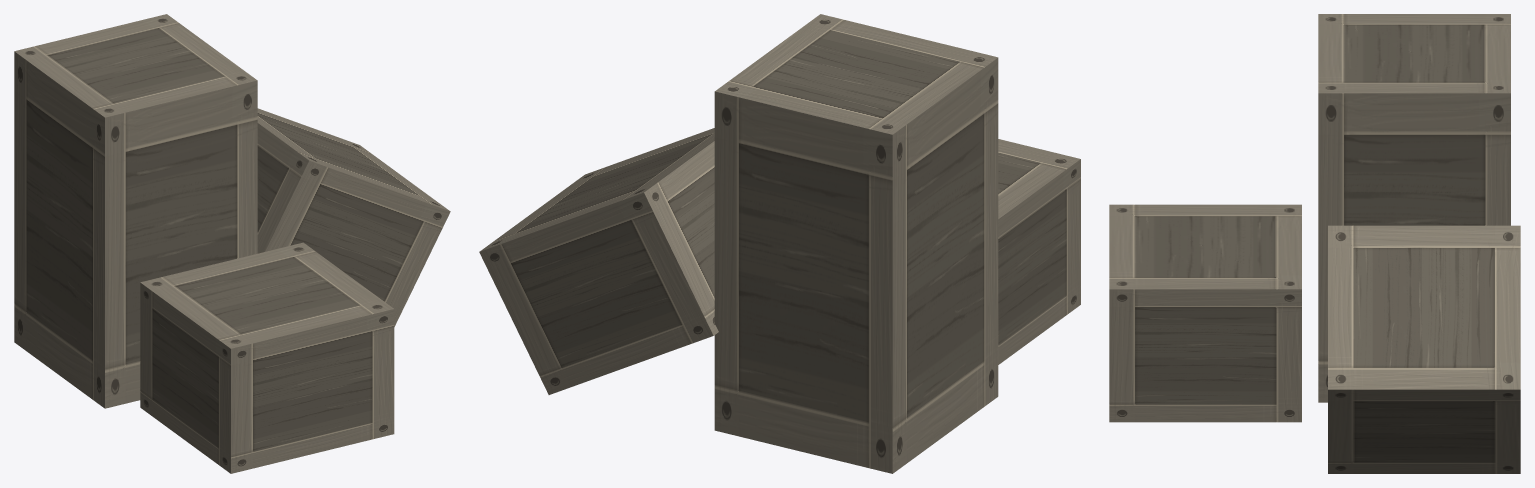
File: ST_CrateFamily.FBX
The picture shows the model from 3 angles, left to right: view 1: azimuth 30°, elevation 25°; view 2: azimuth 150°, elevation 25°; view 3: azimuth 270°, elevation 25°; orthographic projection. The views are drawn at different scales.
Visible parts, largest first — view 1: Wood_box_family; view 2: Wood_box_family; view 3: Wood_box_family.
Part boxes in pixels (box(x1,y1,x2,y2)): Wood_box_family: box(14, 14, 450, 473); Wood_box_family: box(479, 14, 1080, 473); Wood_box_family: box(1109, 14, 1520, 473).
Bounding box in the file's own units: 106 × 84.07 × 101.
